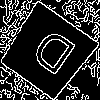D: (23, 26, 79, 85)
